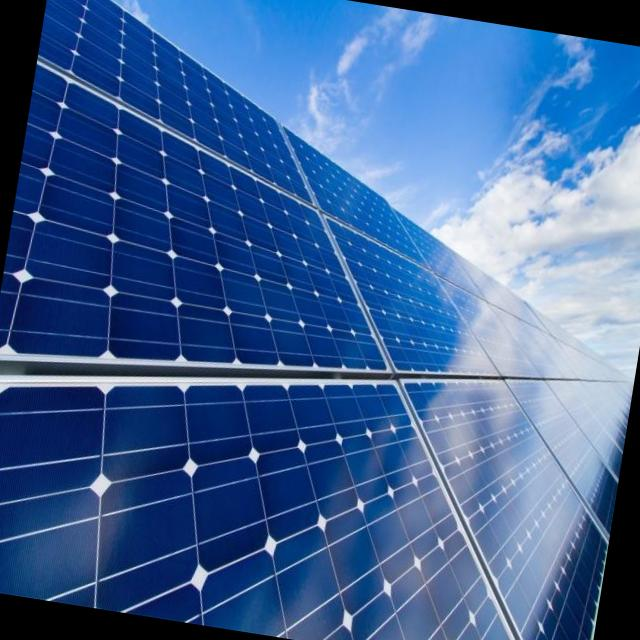no faulty: (0, 387, 514, 640), (0, 67, 376, 368), (43, 0, 311, 197), (408, 386, 604, 640), (333, 231, 496, 375), (299, 142, 420, 253)
